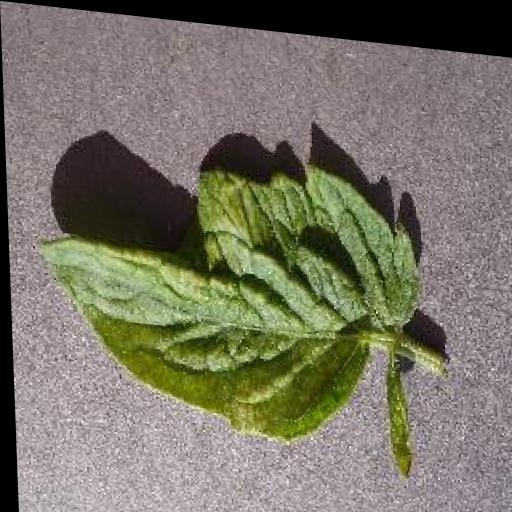Spider Mites: (29, 137, 426, 449)
